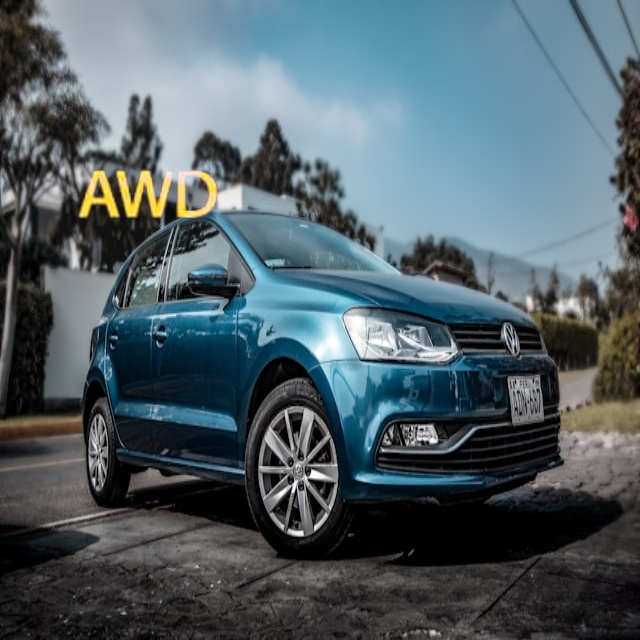symbol: (56, 105, 238, 287)
